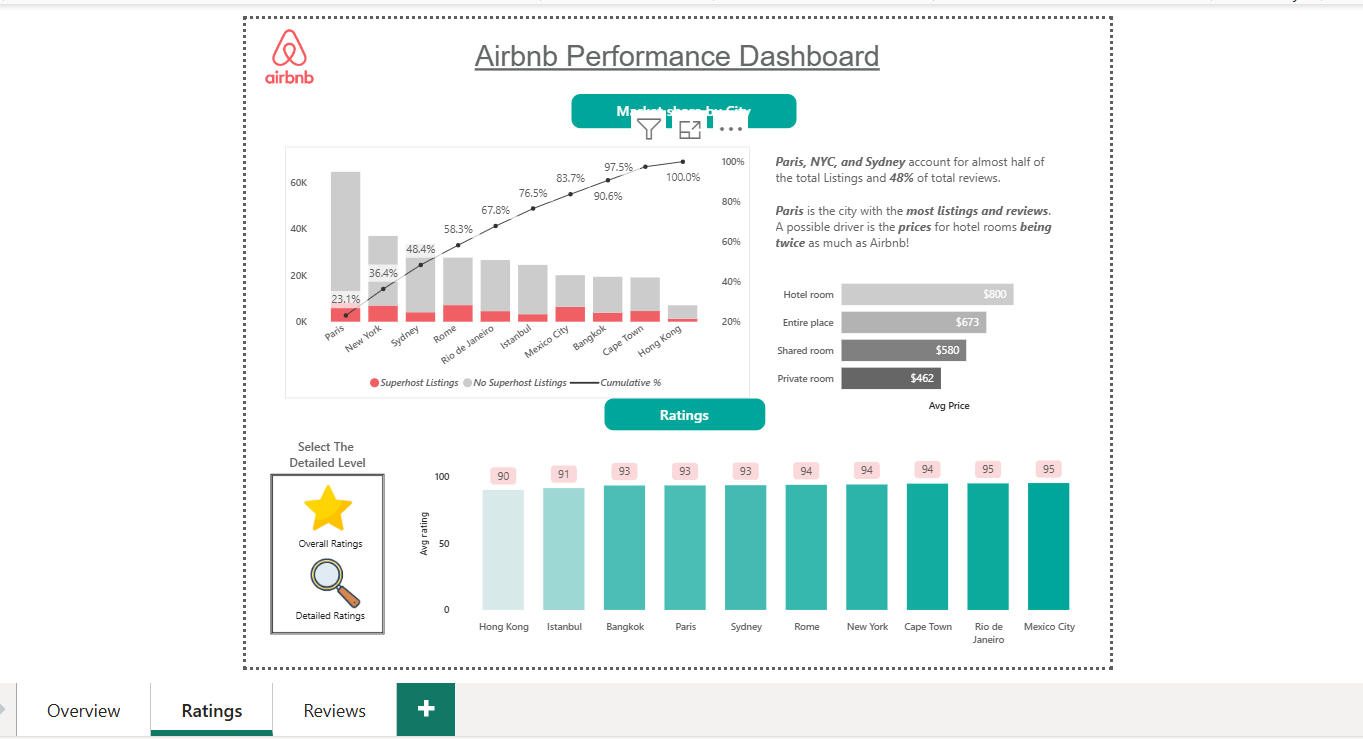

Layout of this report page (visuals, bound fields, positions):
{"tool":"powerbi","page":{"name":"Ratings","canvas":[960,720],"ordinal":1},"visuals":[{"type":"textbox","box":[200.8,0,558.3,83.3],"z":0},{"type":"image","box":[0,0,96.7,83.3],"z":1000},{"type":"textbox","box":[362.4,84,250,38],"z":2000},{"type":"textbox","box":[584,144,322,124],"z":3000},{"type":"textbox","box":[22.9,460,134.3,45.7],"z":3500},{"type":"lineStackedColumnComboChart","fields":{"Category":["Listings.city"],"Y":["Listings.Superhost Listings","Listings.No Superhost Listings"],"Y2":["Listings.Cumulative %"]},"box":[44,142,516,280],"z":4000},{"type":"barChart","fields":{"Y":["Listings.Avg Price"],"Category":["Listings.room_type"]},"box":[584,268,322,172],"z":5000},{"type":"textbox","box":[398.2,421.7,178.3,35],"z":6000},{"type":"image","box":[23.3,470,134.4,249.4],"z":7000},{"type":"columnChart","fields":{"Y":["Listings.Avg rating"],"Category":["Listings.city"]},"box":[186.2,472.8,761,229.9],"z":9000},{"type":"image","box":[54,483.2,72.7,119.3],"z":9000,"group":"g1"},{"type":"image","box":[71.3,567.2,55.3,120],"z":10000,"group":"g2"},{"type":"group","id":"g1","title":"Group 1","box":[52.7,483.2,94,119.3],"z":11000},{"type":"textbox","box":[52.7,566.5,94,28],"z":12000,"group":"g1"},{"type":"group","id":"g2","title":"Group 2","box":[49.3,567.2,94,120],"z":12000},{"type":"textbox","box":[49.3,647.9,94,28],"z":13000,"group":"g2"}]}

Visuals, with their boxes on the page's 960x720 design canvas (x1, y1, x2, y2). These are canvas units, not pixel positions in the 1363x739 screenshot, which may show the page scaled, cropped or inside an application window:
textbox: bbox=(201, 0, 759, 83)
image: bbox=(0, 0, 97, 83)
textbox: bbox=(362, 84, 612, 122)
textbox: bbox=(584, 144, 906, 268)
textbox: bbox=(23, 460, 157, 506)
lineStackedColumnComboChart - Listings.city x Listings.Superhost Listings: bbox=(44, 142, 560, 422)
barChart - Listings.Avg Price x Listings.room_type: bbox=(584, 268, 906, 440)
textbox: bbox=(398, 422, 576, 457)
image: bbox=(23, 470, 158, 719)
columnChart - Listings.Avg rating x Listings.city: bbox=(186, 473, 947, 703)
image: bbox=(54, 483, 127, 602)
image: bbox=(71, 567, 127, 687)
"Group 1" group: bbox=(53, 483, 147, 602)
textbox: bbox=(53, 566, 147, 594)
"Group 2" group: bbox=(49, 567, 143, 687)
textbox: bbox=(49, 648, 143, 676)
